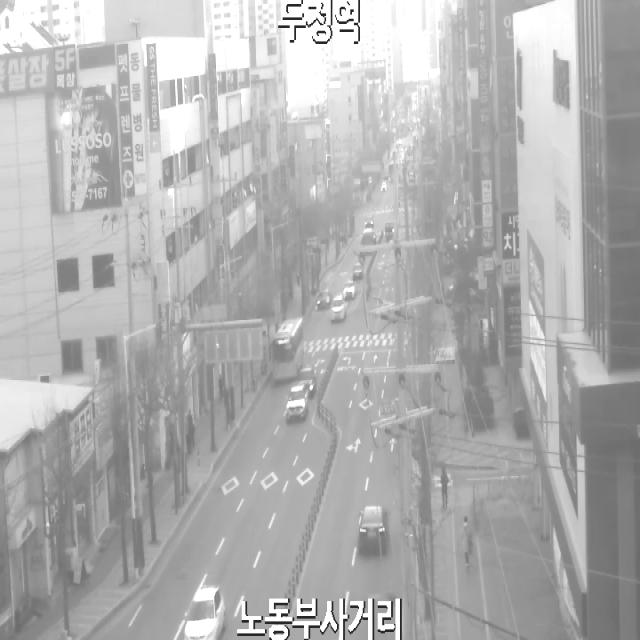Bus: (272, 316, 303, 382)
Car: (184, 586, 225, 640), (358, 504, 391, 554), (286, 384, 308, 421), (298, 368, 316, 396), (331, 293, 347, 323), (317, 287, 332, 310), (344, 279, 356, 299), (352, 263, 362, 280), (364, 217, 374, 228), (380, 181, 388, 192)
